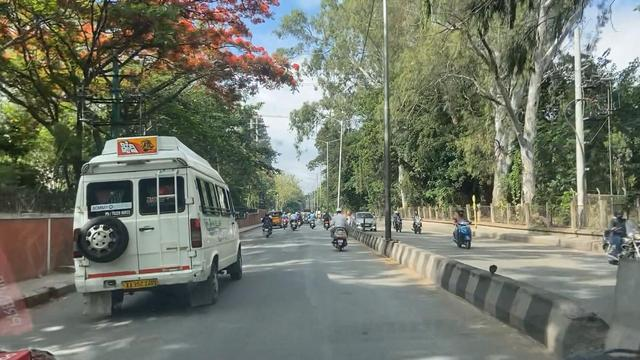HMV: (73, 153, 211, 306)
LMV: (334, 209, 347, 250), (259, 209, 270, 237), (288, 208, 296, 230), (309, 212, 317, 230)
